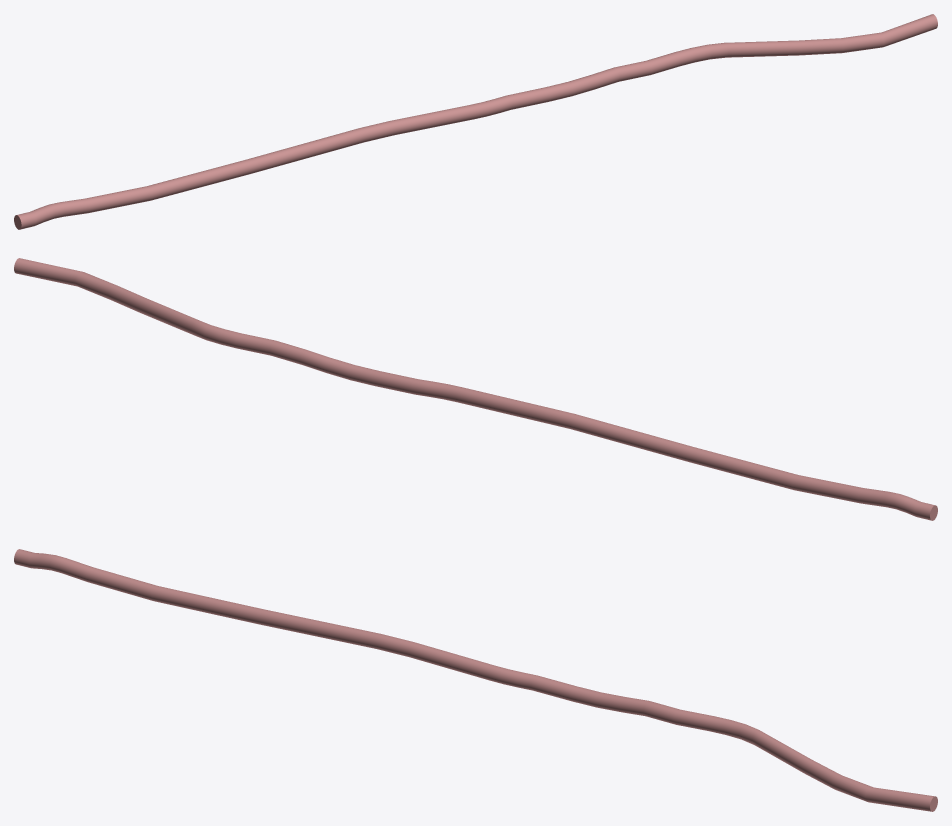
File: Pipe_Big_L.fbx
3 views of the same model, one above another, from view 1: azimuth 30°, elevation 25°; view 2: azimuth 150°, elevation 25°; view 3: azimuth 330°, elevation 25° (orthographic). The views are drawn at different scales.
Visible parts, largest first — view 1: Pipe_Big_L; view 2: Pipe_Big_L; view 3: Pipe_Big_L.
Boxes of the visible parts, <box> form: Pipe_Big_L: <box>14,14,937,229</box>; Pipe_Big_L: <box>14,258,937,520</box>; Pipe_Big_L: <box>14,549,937,811</box>.
Bounding box in the file's own units: 2315 × 49.47 × 154.
